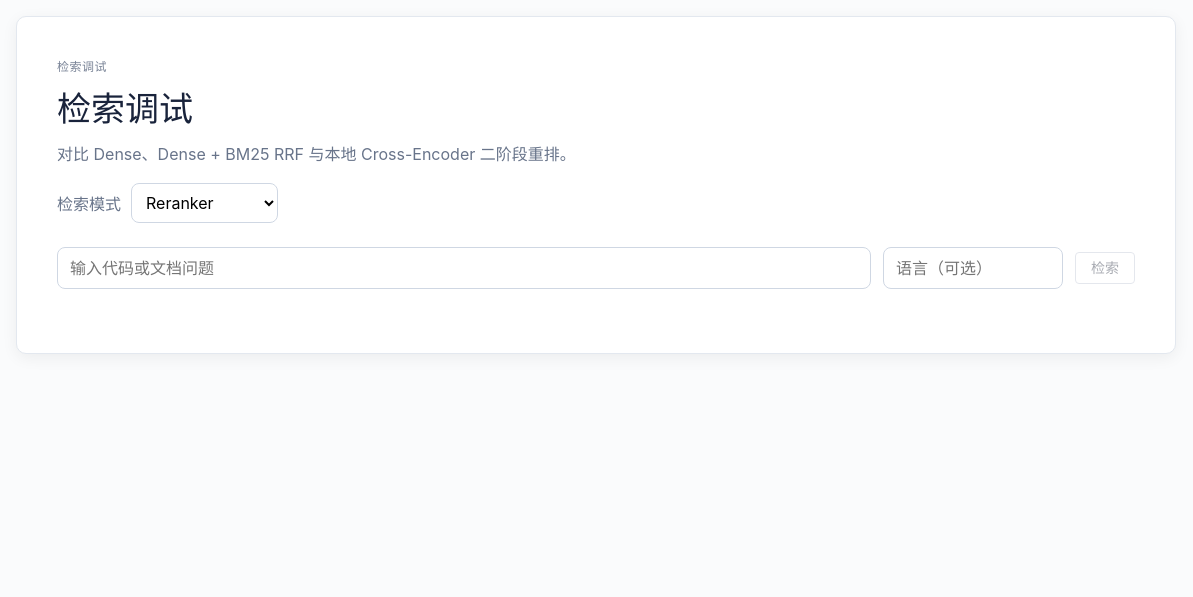
Test: SemanticSearchPanel › shows exact path scope and semantic query for dense debugging
Select "Dense 检索" in the dropdown named "检索模式" at (204, 203), box x1=131 y1=183 x2=278 y2=223
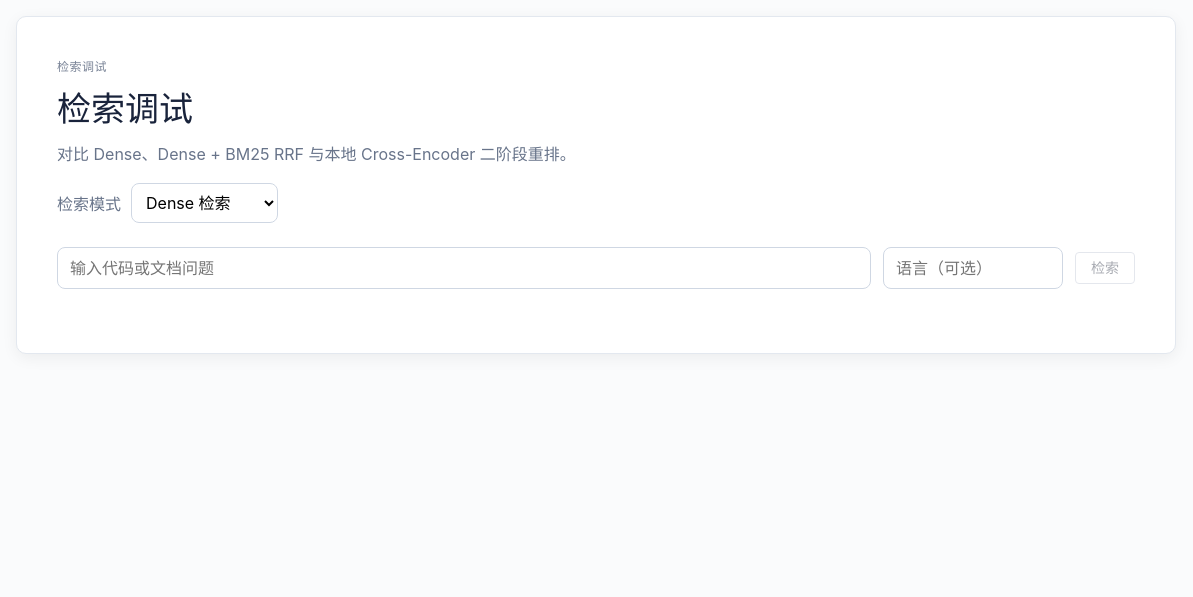
Type "src/main/java/demo/UserService.java 中 source 方法返回什么？" into the field named "语义查询".
click(464, 268); type("src/main/java/demo/UserService.java 中 source 方法返回什么？")  # box x1=57 y1=247 x2=871 y2=289
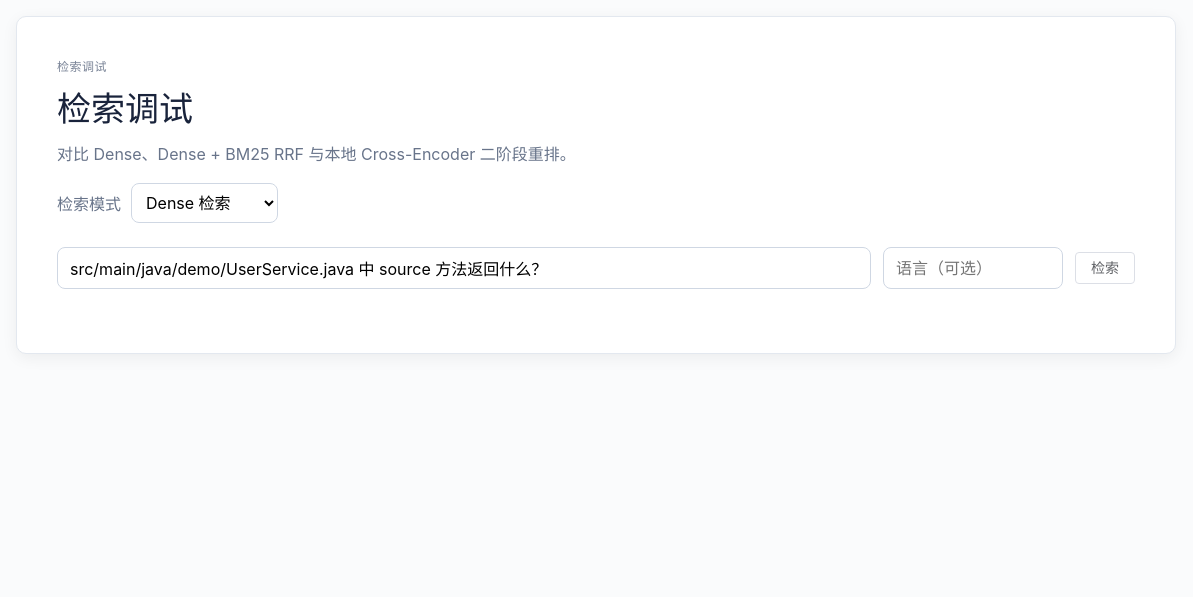
Submit the form, box x1=57 y1=247 x2=1135 y2=289
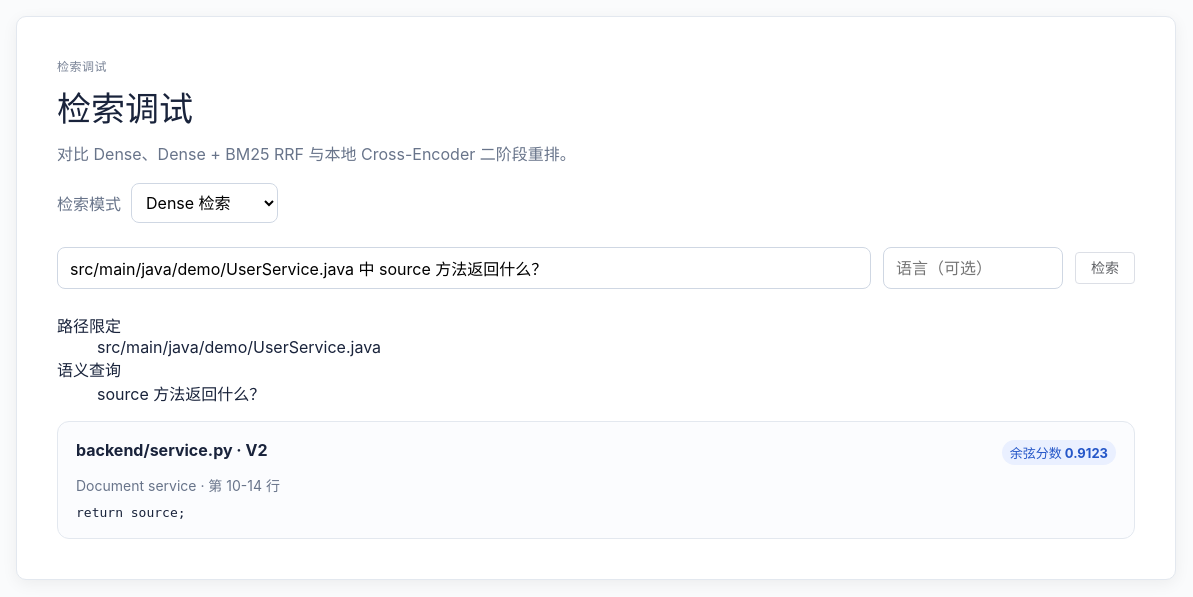
expect the element with test id "semantic-search-scope" shows "路径限定": met, box x1=57 y1=316 x2=121 y2=336
expect the element with test id "semantic-search-scope" shows "src/main/java/demo/UserService.java": met, box x1=97 y1=337 x2=381 y2=357
expect the element with test id "semantic-search-scope" shows "语义查询": met, box x1=57 y1=360 x2=121 y2=380
